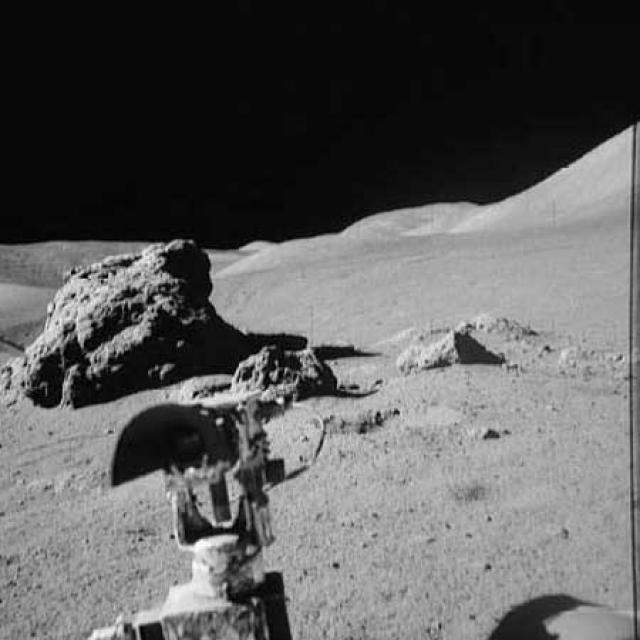artifact: (73, 386, 357, 638), (488, 583, 638, 639)
rock: (4, 238, 223, 386), (232, 346, 343, 402), (390, 321, 494, 380)
